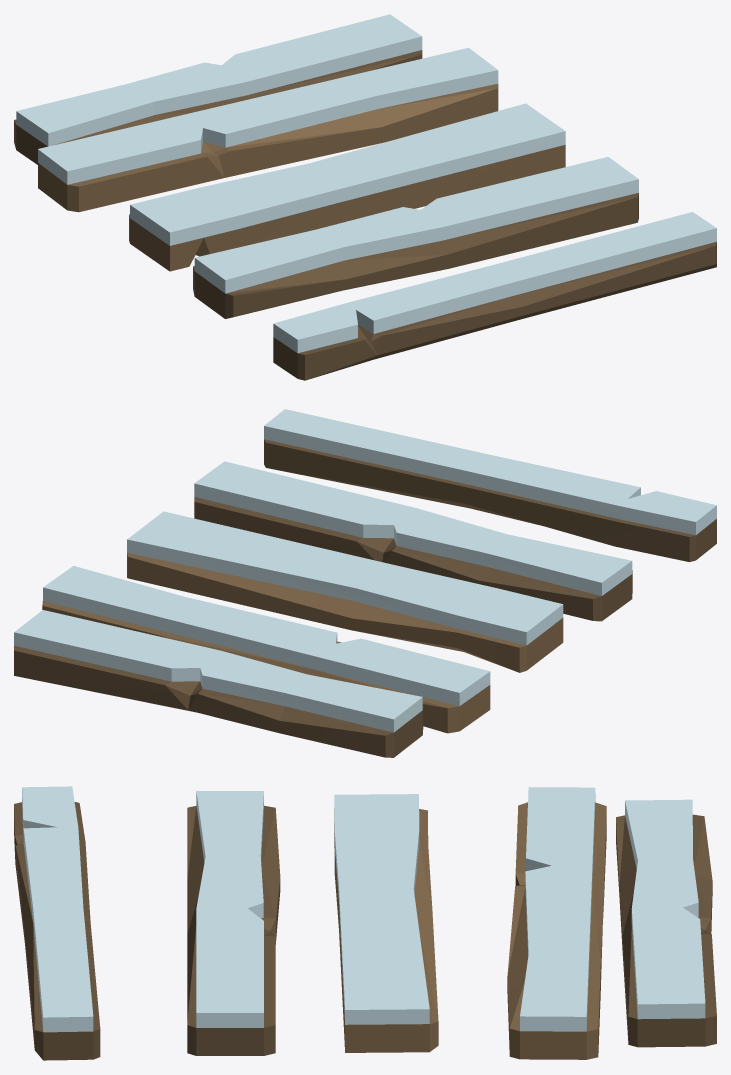
The model's file is Camino_Madera02.glb.
3 views of the same model, one above another, from view 1: azimuth 30°, elevation 25°; view 2: azimuth 150°, elevation 25°; view 3: azimuth 270°, elevation 25° (orthographic). The views are drawn at different scales.
Visible parts, largest first — view 1: SM_Env_Path_Wood_02_Snow; view 2: SM_Env_Path_Wood_02_Snow; view 3: SM_Env_Path_Wood_02_Snow.
Part boxes in pixels (x1=…): SM_Env_Path_Wood_02_Snow: x1=14, y1=14, x2=716, y2=380; SM_Env_Path_Wood_02_Snow: x1=14, y1=409, x2=716, y2=757; SM_Env_Path_Wood_02_Snow: x1=14, y1=786, x2=716, y2=1060.
Bounding box in the file's own units: 2.86 × 0.2475 × 3.67.
1 material, 1 textured.
